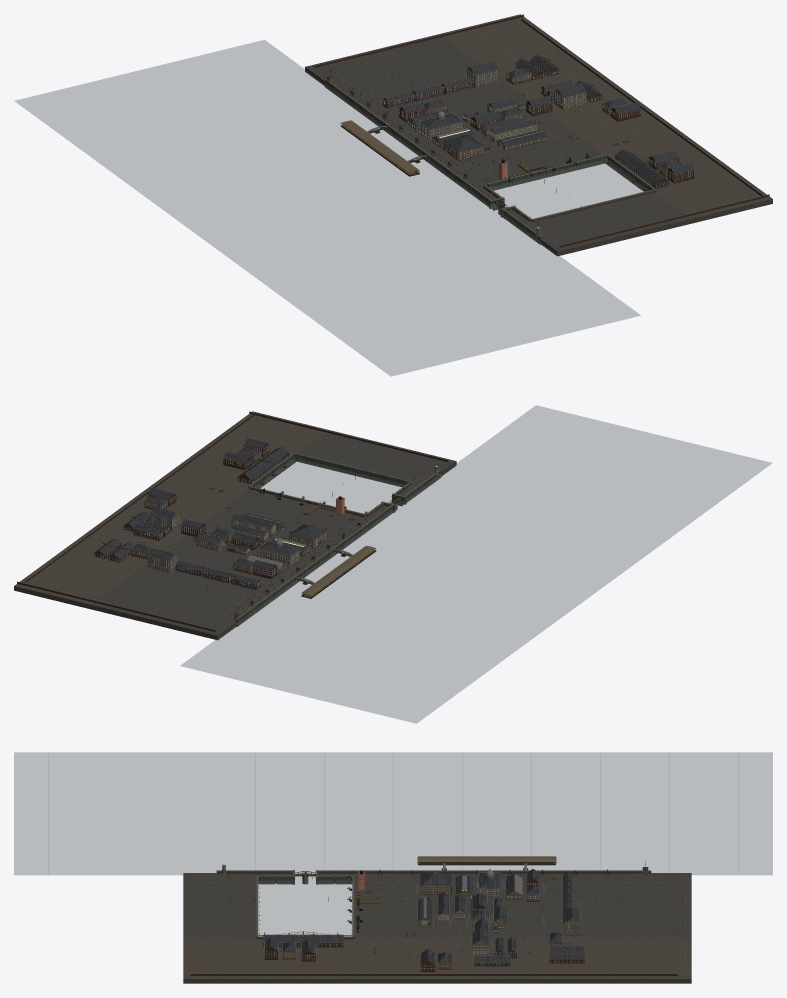
The model's file is port_a_full.glb.
3 renders of one model, top to bottom at view 1: azimuth 30°, elevation 25°; view 2: azimuth 150°, elevation 25°; view 3: azimuth 270°, elevation 25°, orthographic. The views are drawn at different scales.
Parts seen in each view (by area): view 1: A_ground.001, A_streets.001, A_landing_stage.001, A_rail.001, A_dock_shed.001, A_customhouse.001, A_terminal.001, A_hotel.002, A_office_row.001, A_hotel.001; view 2: A_ground.001, A_streets.001, A_landing_stage.001, A_rail.001, A_dock_shed.001, A_customhouse.001, A_terminal.001, A_hotel.001; view 3: A_ground.001, A_streets.001, A_landing_stage.001, A_dock_shed.001, A_terminal.001, A_rail.001, A_customhouse.001, A_hotel.001, A_hotel.002, A_goods_shed.003, A_transit_shed.001, A_goods_shed.002 (+2 smaller).
Part boxes in pixels (x1,y1,x2,y2): A_ground.001: (15,14,772,376); A_streets.001: (382,88,558,165); A_landing_stage.001: (340,120,419,176); A_rail.001: (334,80,649,234); A_dock_shed.001: (615,149,669,188); A_customhouse.001: (418,110,463,139); A_terminal.001: (442,134,484,160); A_hotel.002: (554,83,586,110); A_office_row.001: (489,118,536,142); A_hotel.001: (466,61,498,87); A_ground.001: (14,405,771,723); A_streets.001: (178,513,339,586); A_landing_stage.001: (301,545,376,598); A_rail.001: (214,457,432,617); A_dock_shed.001: (238,446,289,483); A_customhouse.001: (258,537,300,565); A_terminal.001: (288,524,327,548); A_hotel.001: (147,548,177,572); A_ground.001: (14,752,772,983); A_streets.001: (412,877,555,929); A_landing_stage.001: (417,856,556,865); A_dock_shed.001: (263,931,343,947); A_terminal.001: (420,871,452,894); A_rail.001: (224,874,644,937); A_customhouse.001: (477,868,500,898); A_hotel.001: (562,907,580,936); A_hotel.002: (471,928,489,957); A_goods_shed.003: (474,952,510,966); A_transit_shed.001: (505,873,522,899); A_goods_shed.002: (549,950,584,963).
Size of the model in its own units: 800 by 49.92 by 1120.
Materials: 45 (25 with a texture image).
